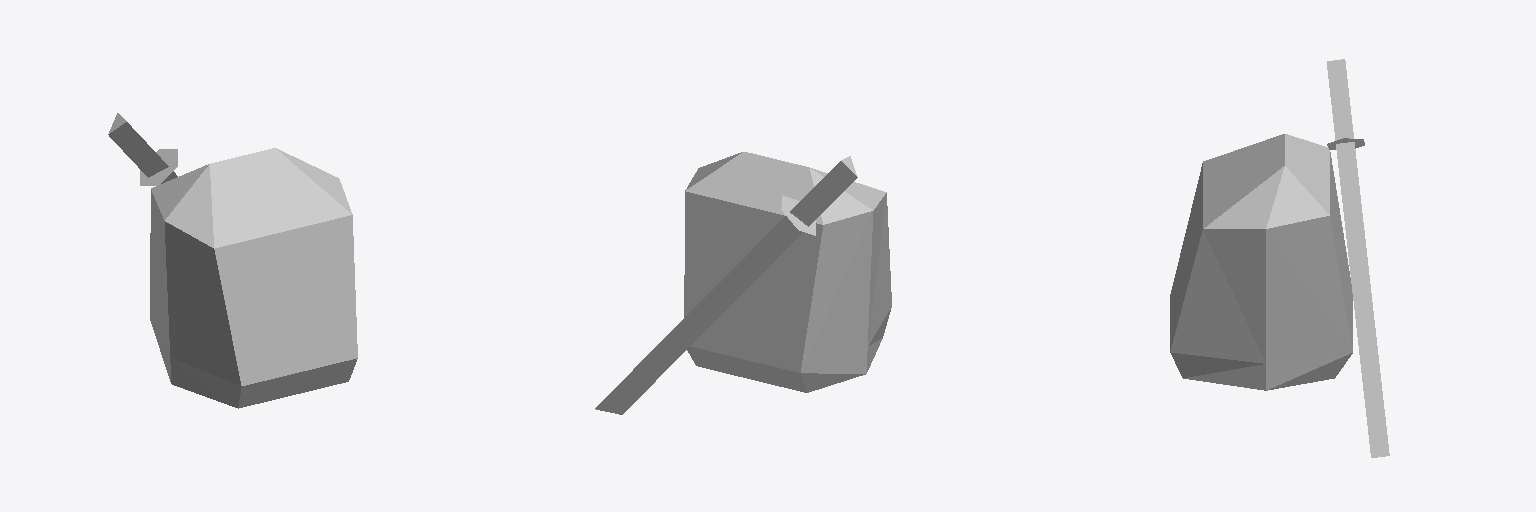
File: 01_body.obj
3 renders of one model, left to right at view 1: azimuth 30°, elevation 25°; view 2: azimuth 150°, elevation 25°; view 3: azimuth 270°, elevation 25°, orthographic.
Parts seen in each view (by area): view 1: body Object_13 body, body body polySurface3, soard body Object_11, soard body Object_10; view 2: body Object_13 body, soard body polySurface1, body body polySurface3, soard body Object_11; view 3: body Object_13 body, polySurface2 soard body, body body polySurface3, soard body Object_11.
Part boxes in pixels (bbox=[...]): body Object_13 body: bbox=[150, 148, 357, 385]; body body polySurface3: bbox=[150, 320, 357, 408]; soard body Object_11: bbox=[108, 113, 168, 177]; soard body Object_10: bbox=[140, 149, 177, 185]; body Object_13 body: bbox=[684, 152, 891, 372]; soard body polySurface1: bbox=[595, 216, 802, 414]; body body polySurface3: bbox=[687, 307, 891, 392]; soard body Object_11: bbox=[790, 156, 857, 226]; body Object_13 body: bbox=[1170, 134, 1352, 363]; polySurface2 soard body: bbox=[1336, 142, 1389, 457]; body body polySurface3: bbox=[1170, 352, 1352, 390]; soard body Object_11: bbox=[1327, 59, 1353, 140].
Bounding box in the file's own units: 72.7 × 84.98 × 58.14.